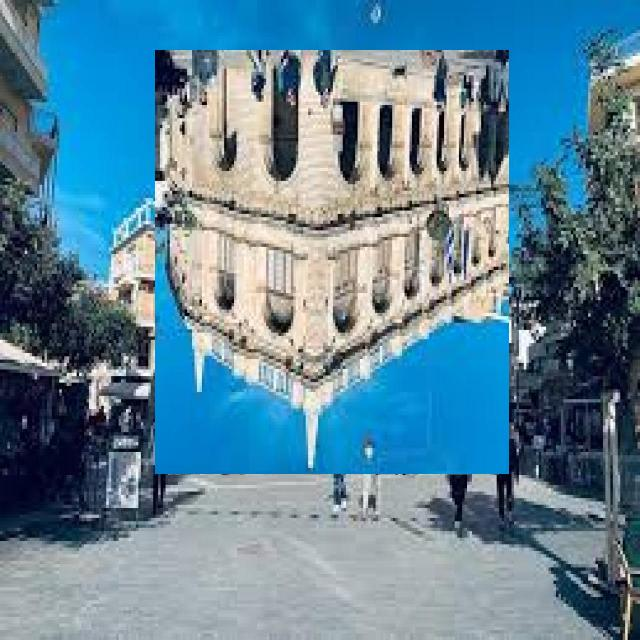Loggia: (156, 51, 510, 475)
